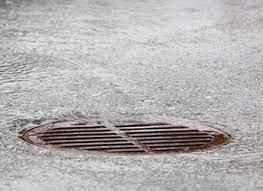open drainage-not overflowing-: (19, 118, 231, 156)
